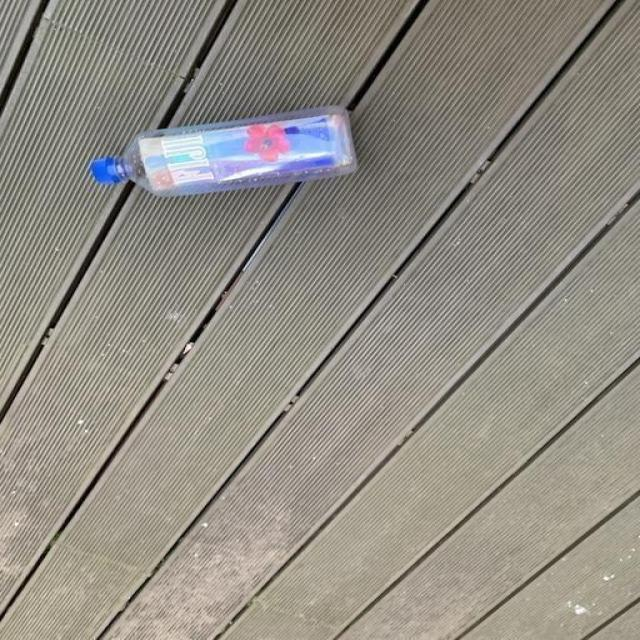plastic bottle: (91, 104, 364, 198)
